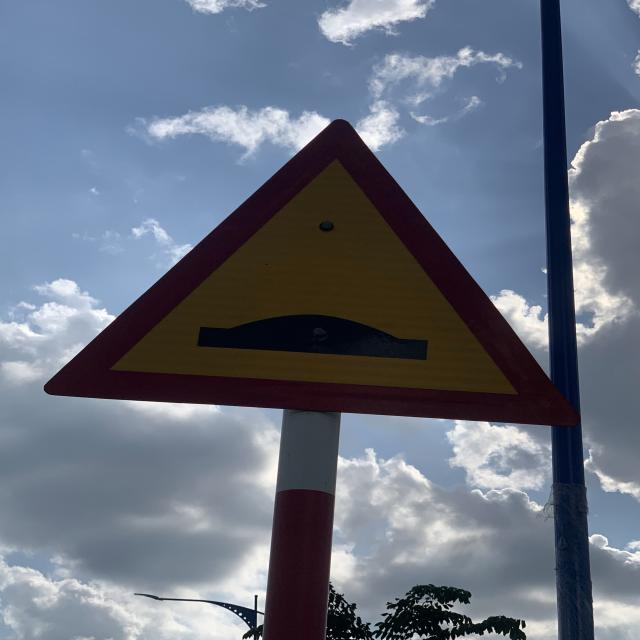Duong_Cong_Ben_Phai: (47, 119, 580, 425)
